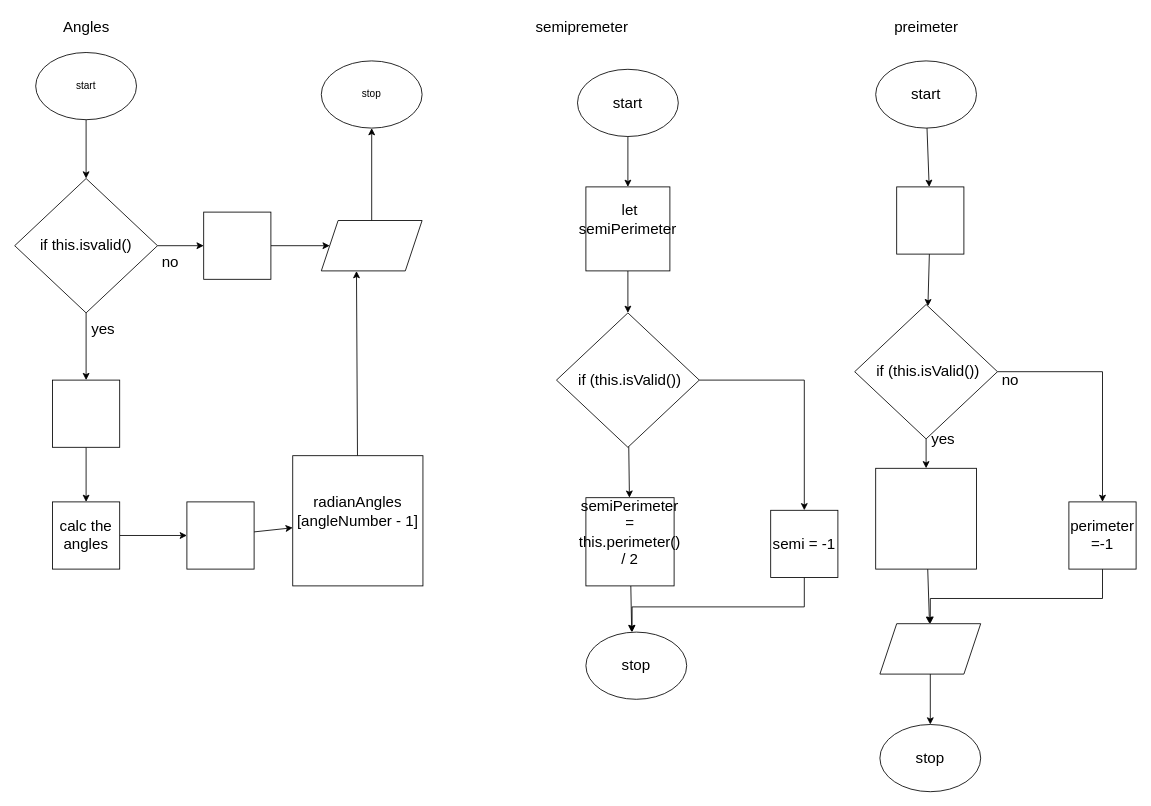
The diagram is 1151 pixels wide and 806 high, and some of its shapes have lost their labels. Each missing label, with the box of its shape:
angle=-1: (203, 211, 271, 279)
create radiant angle array: (52, 379, 120, 447)
initailize: (896, 186, 964, 254)
perimeter = this.side1 + this.side2 + this.side3: (875, 467, 976, 569)
push angle to radianangles array: (186, 501, 254, 569)
return angle: (320, 220, 422, 271)
return perimeter: (879, 623, 981, 674)
